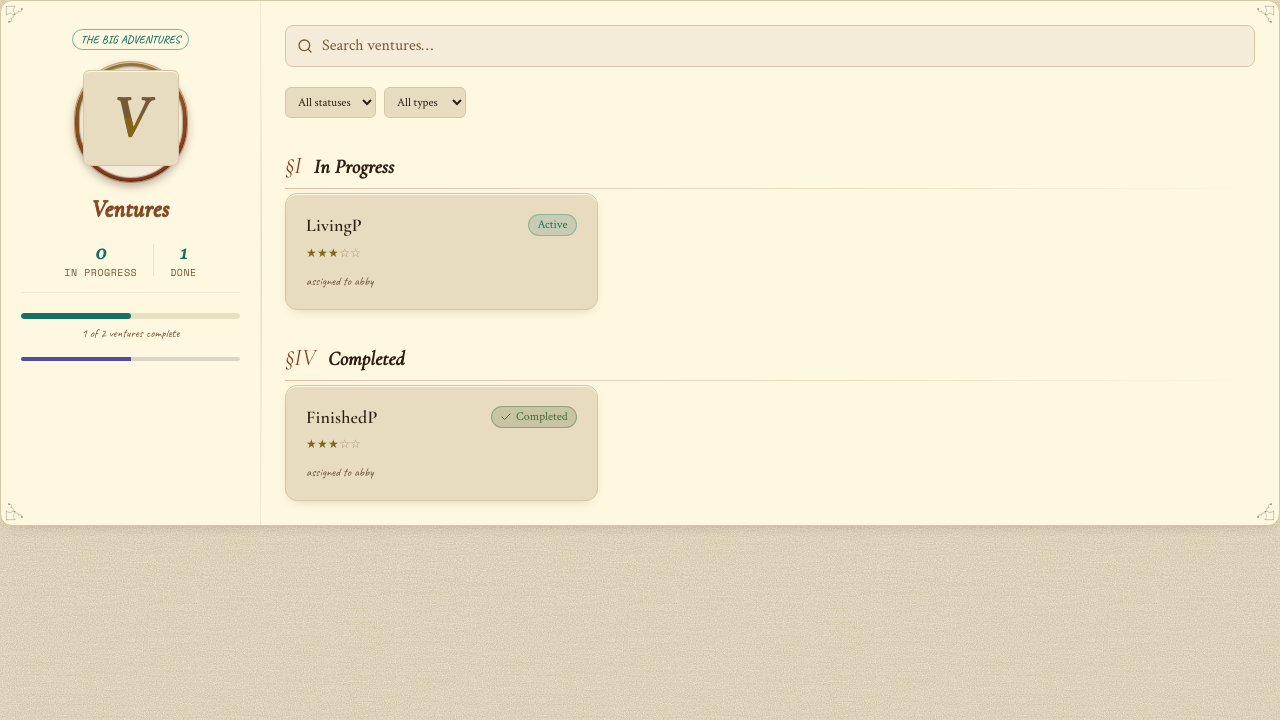
Scenario: Projects › filters by status
Check: the heading "LivingP" is shown, box [306, 214, 362, 236]
Select "Completed" in the dropdown named "Filter by status". click: coordinates (330, 102)
box: [285, 87, 376, 118]
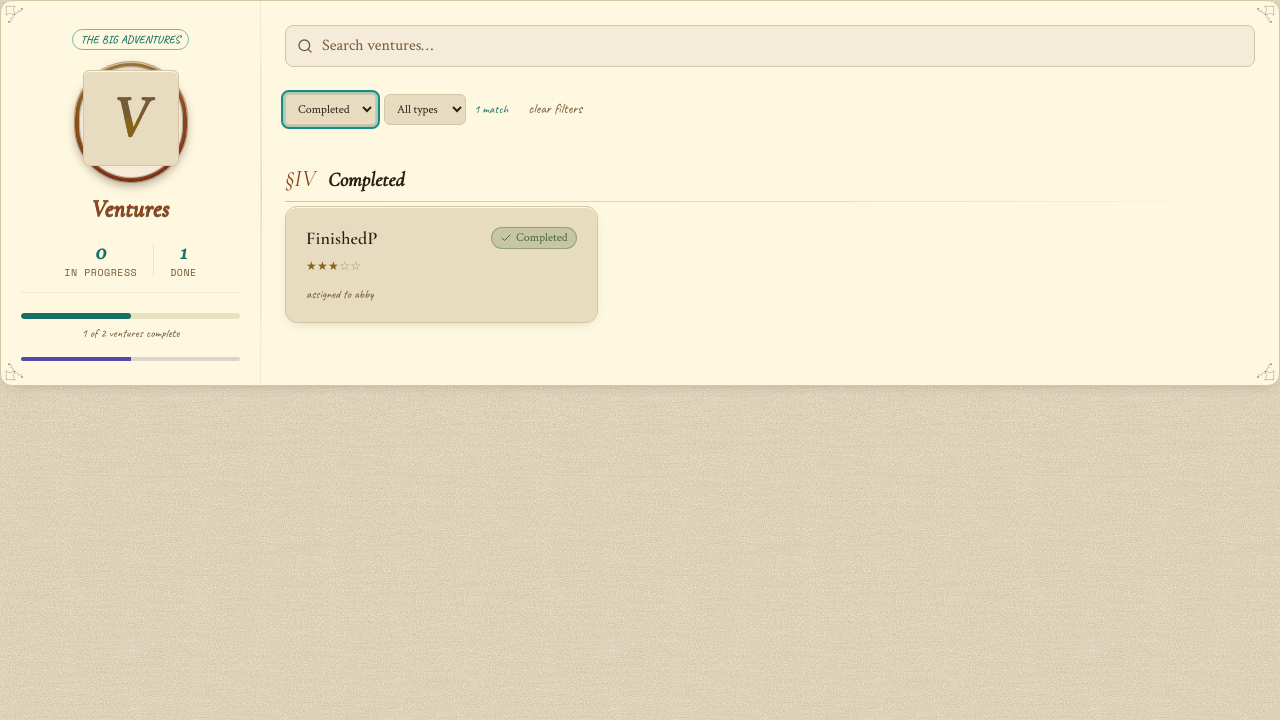
Check: the heading "FinishedP" is shown, box [306, 227, 378, 250]
Check: the button "LivingP" is gone
Click the button "clear filters". click: coordinates (555, 109)
box: [516, 87, 594, 131]
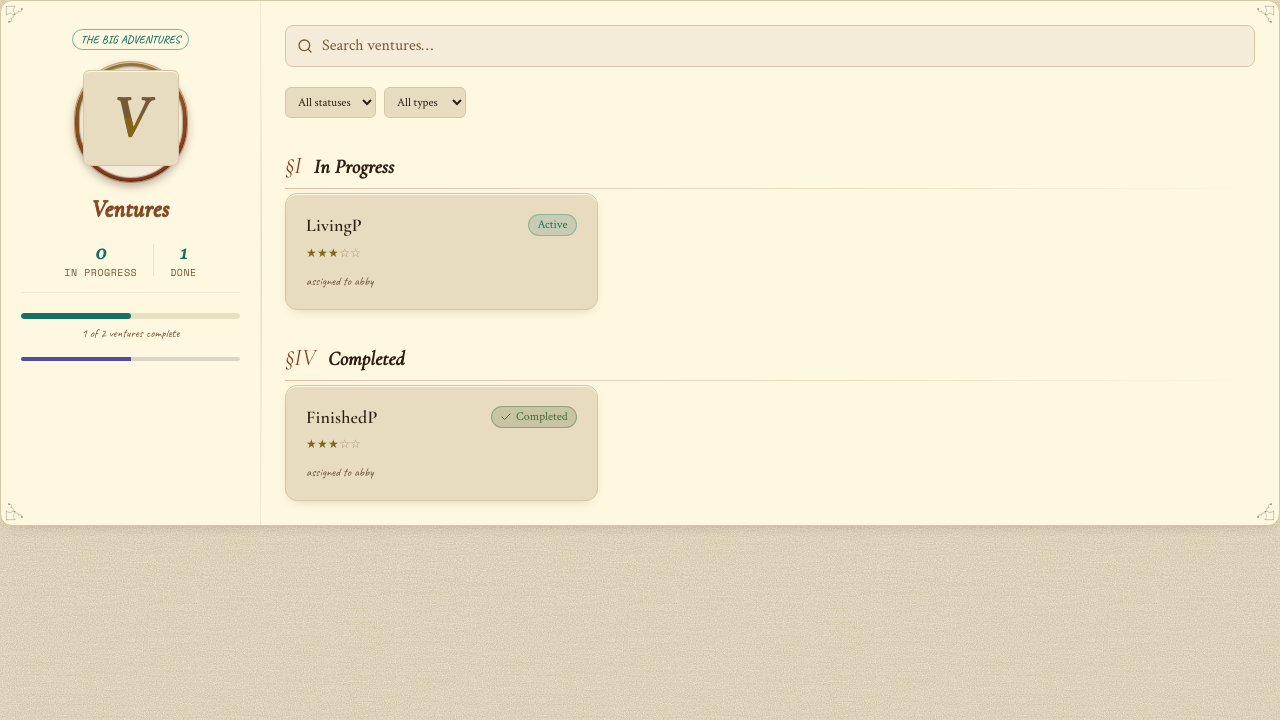
Check: the heading "LivingP" is shown, box [306, 214, 362, 236]
